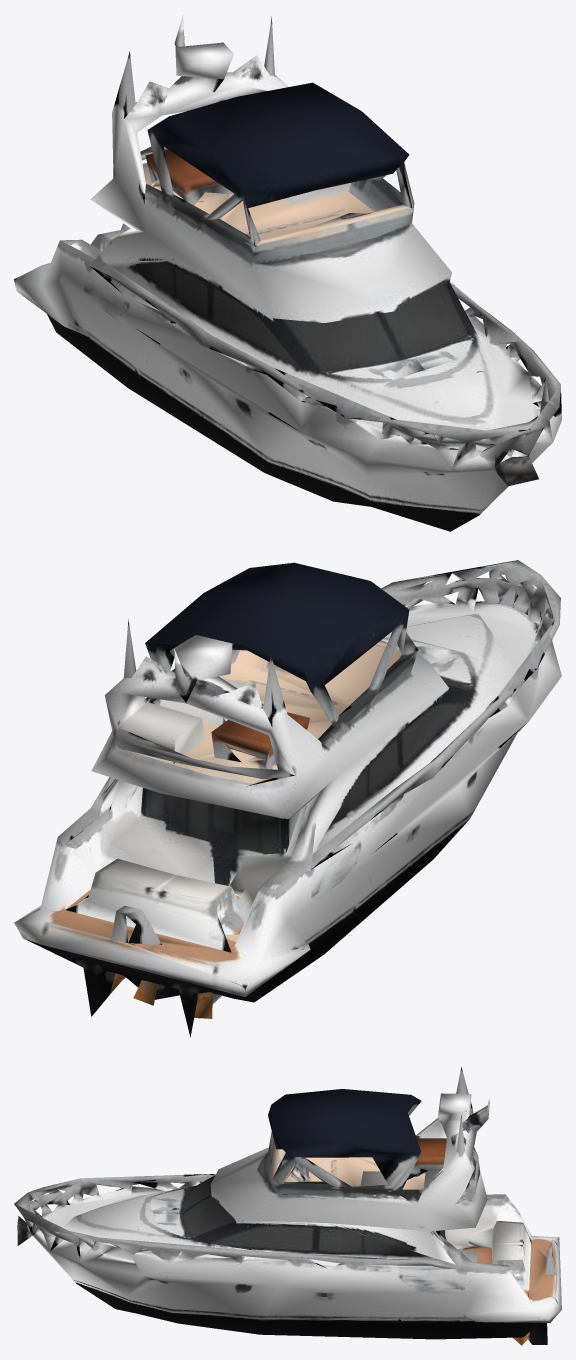
Rendered from boat_motor_yacht.glb.
3 renders of one model, top to bottom at view 1: azimuth 30°, elevation 25°; view 2: azimuth 150°, elevation 25°; view 3: azimuth 270°, elevation 25°, orthographic. The views are drawn at different scales.
Parts seen in each view (by area): view 1: boat_motor_yacht; view 2: boat_motor_yacht; view 3: boat_motor_yacht.
Boxes of the visible parts, box(x1,y1,x2,y2) form: boat_motor_yacht: box(14, 15, 561, 531); boat_motor_yacht: box(14, 560, 561, 1037); boat_motor_yacht: box(14, 1066, 561, 1345).
Bounding box in the file's own units: 4.65 × 6.29 × 12.89.
Materials: 1 (1 with a texture image).
